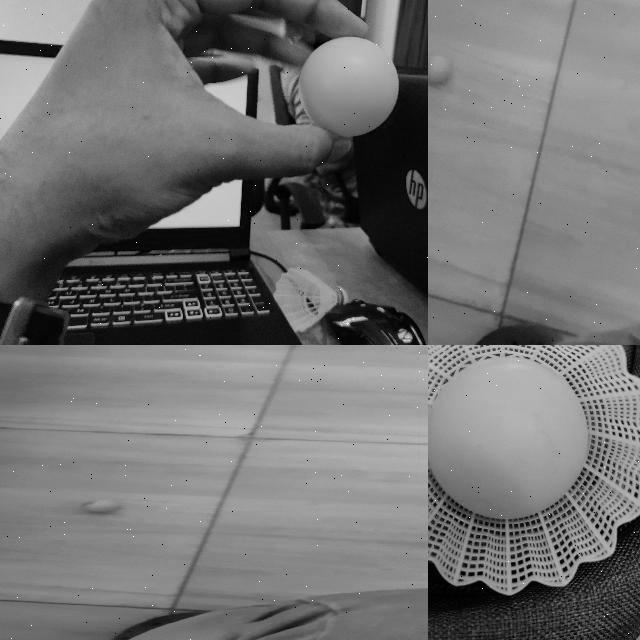ping-pong-ball: (428, 358, 586, 519), (298, 37, 398, 137), (428, 56, 449, 87), (86, 499, 120, 511)
